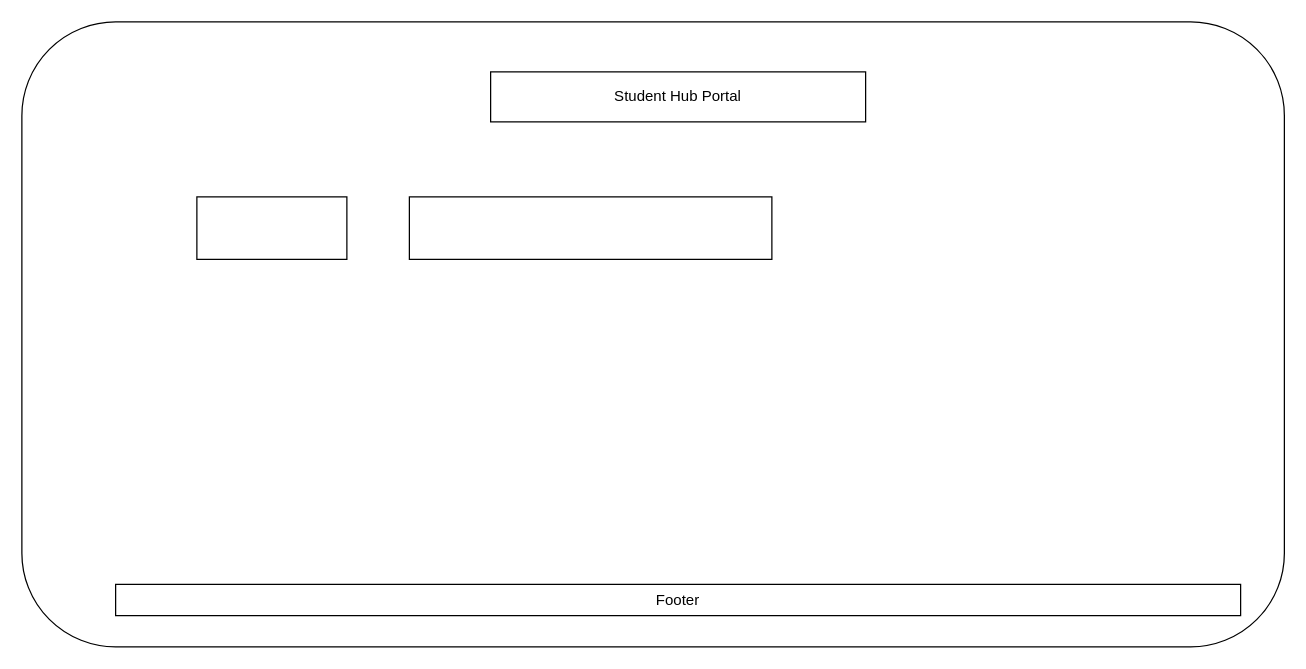
Some shapes in this 1306 by 669 pixel diagram are drawn without their labels. Here are the shapes that lost their labels. From the top down, the centre of each, then its label:
point 271,227: Select Couse :
point 590,227: Drop Down Menu
